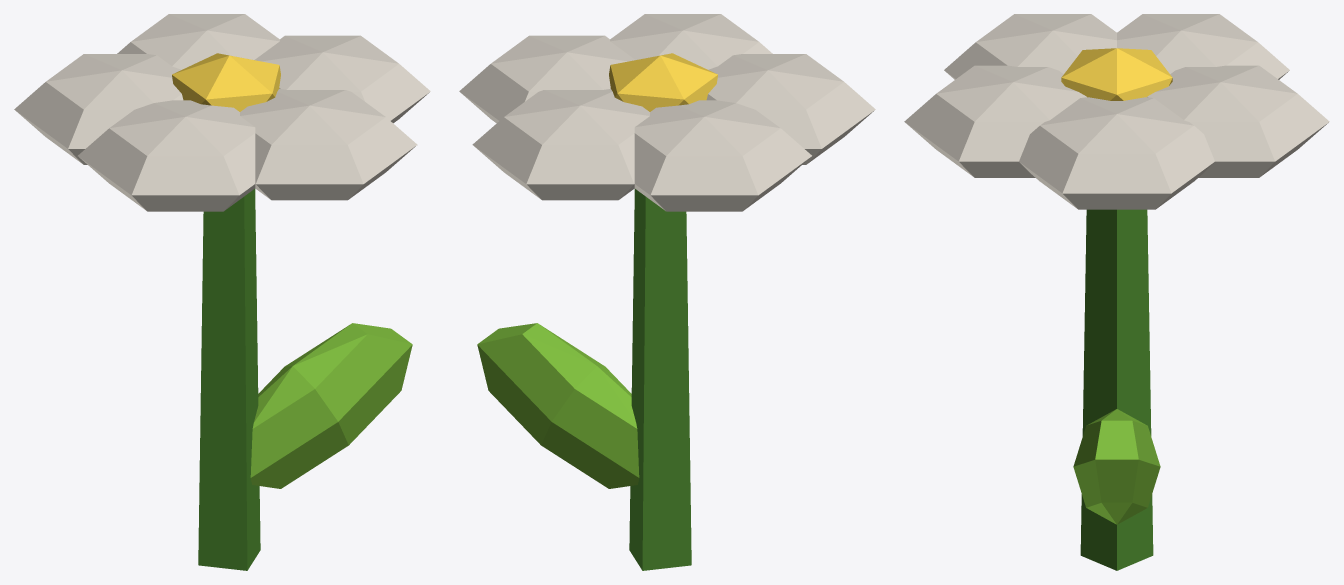
The model's file is flower_white.glb.
3 views of the same model, side by side, from view 1: azimuth 30°, elevation 25°; view 2: azimuth 150°, elevation 25°; view 3: azimuth 270°, elevation 25° (orthographic).
Parts seen in each view (by area): view 1: flower_white; view 2: flower_white; view 3: flower_white.
Boxes of the visible parts, bbox=[...] form: flower_white: bbox=[14, 14, 430, 570]; flower_white: bbox=[459, 14, 875, 570]; flower_white: bbox=[904, 14, 1329, 570].
Bounding box in the file's own units: 0.3984 × 0.5775 × 0.439.
